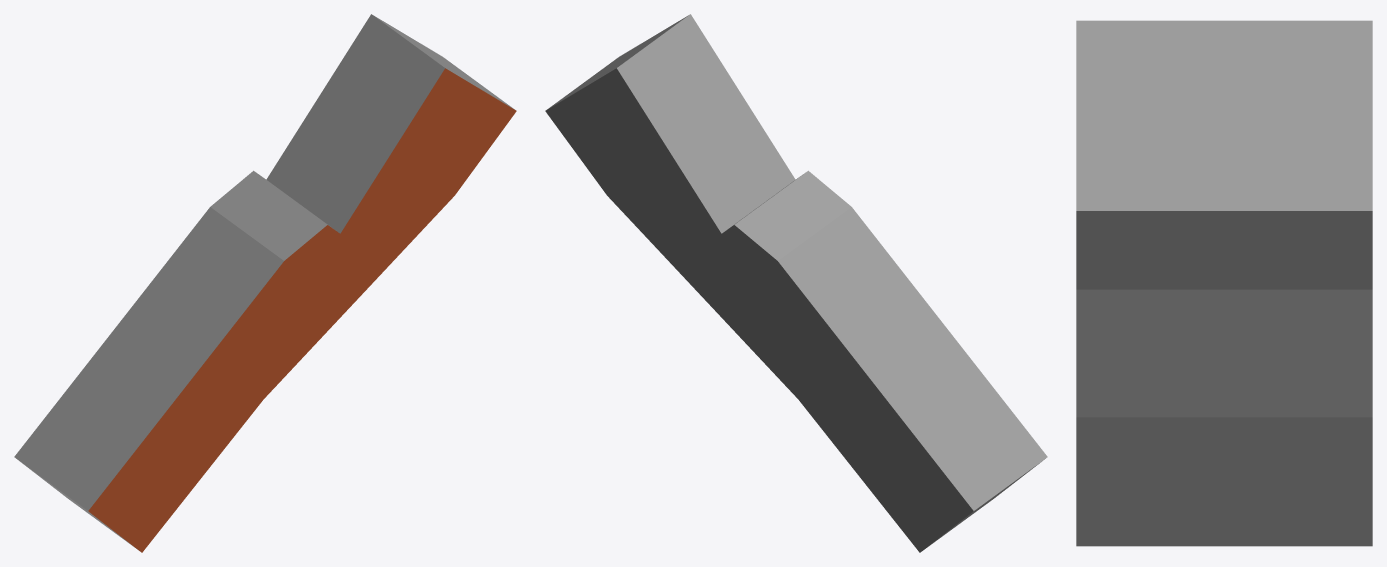
File: construction_1465_assumed_A_Casa_h6m.obj
The picture shows the model from 3 angles, left to right: view 1: azimuth 30°, elevation 25°; view 2: azimuth 150°, elevation 25°; view 3: azimuth 270°, elevation 25°; orthographic projection. The views are drawn at different scales.
Parts seen in each view (by area): view 1: construction_1465_assumed_A_Casa; view 2: construction_1465_assumed_A_Casa; view 3: construction_1465_assumed_A_Casa.
Boxes of the visible parts, bbox=[...] form: construction_1465_assumed_A_Casa: bbox=[14, 14, 516, 552]; construction_1465_assumed_A_Casa: bbox=[545, 14, 1047, 552]; construction_1465_assumed_A_Casa: bbox=[1076, 20, 1372, 546].
Size of the model in its own units: 20.07 by 18.38 by 6.
